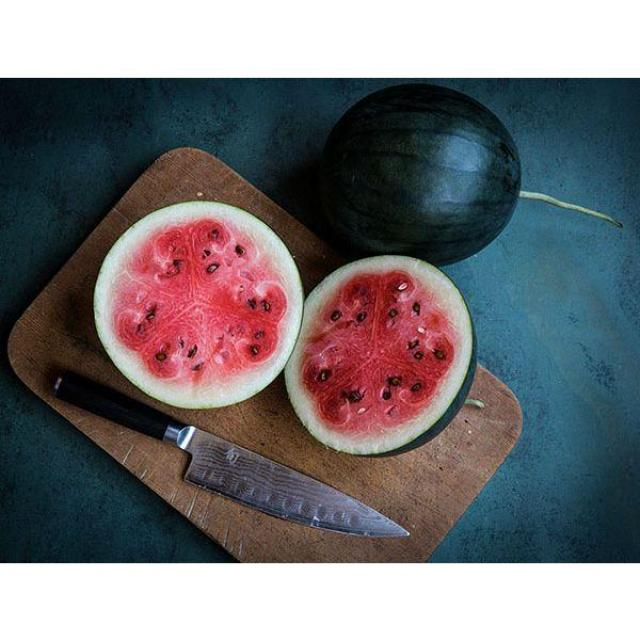watermelon: (93, 197, 305, 410), (288, 241, 480, 460), (312, 78, 524, 265)
